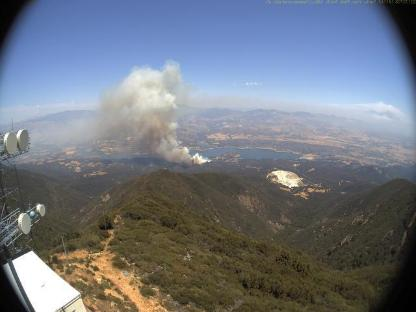smoke: (91, 56, 212, 170)
